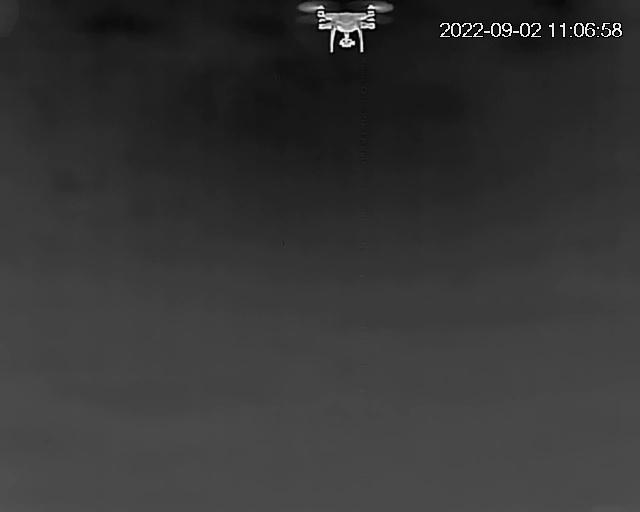DJI-Phantom: (297, 0, 392, 52)
